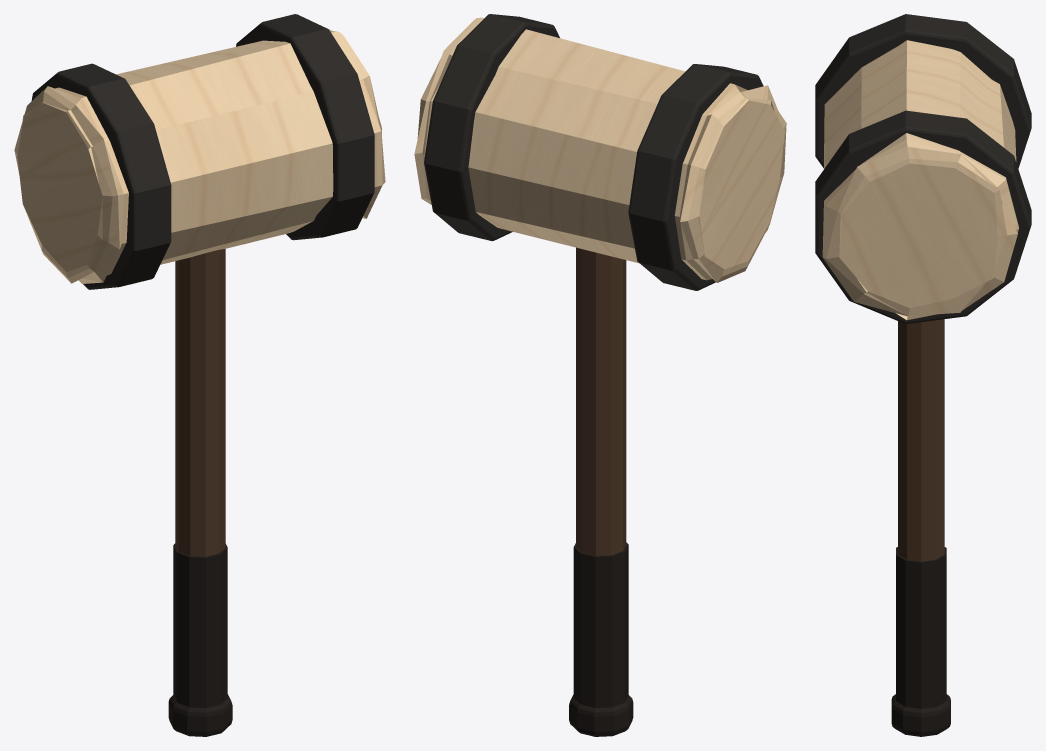
File: hammer_iwadaru.fbx
3 views of the same model, side by side, from view 1: azimuth 30°, elevation 25°; view 2: azimuth 150°, elevation 25°; view 3: azimuth 270°, elevation 25° (orthographic). The views are drawn at different scales.
Visible parts, largest first — view 1: iwadaru_hammer; view 2: iwadaru_hammer; view 3: iwadaru_hammer.
Boxes of the visible parts, <box> form: iwadaru_hammer: <box>14,14,385,736</box>; iwadaru_hammer: <box>414,14,786,736</box>; iwadaru_hammer: <box>815,14,1031,736</box>.
Size of the model in its own units: 1.16 by 2.66 by 0.7938.
Materials: 4 (1 with a texture image).
